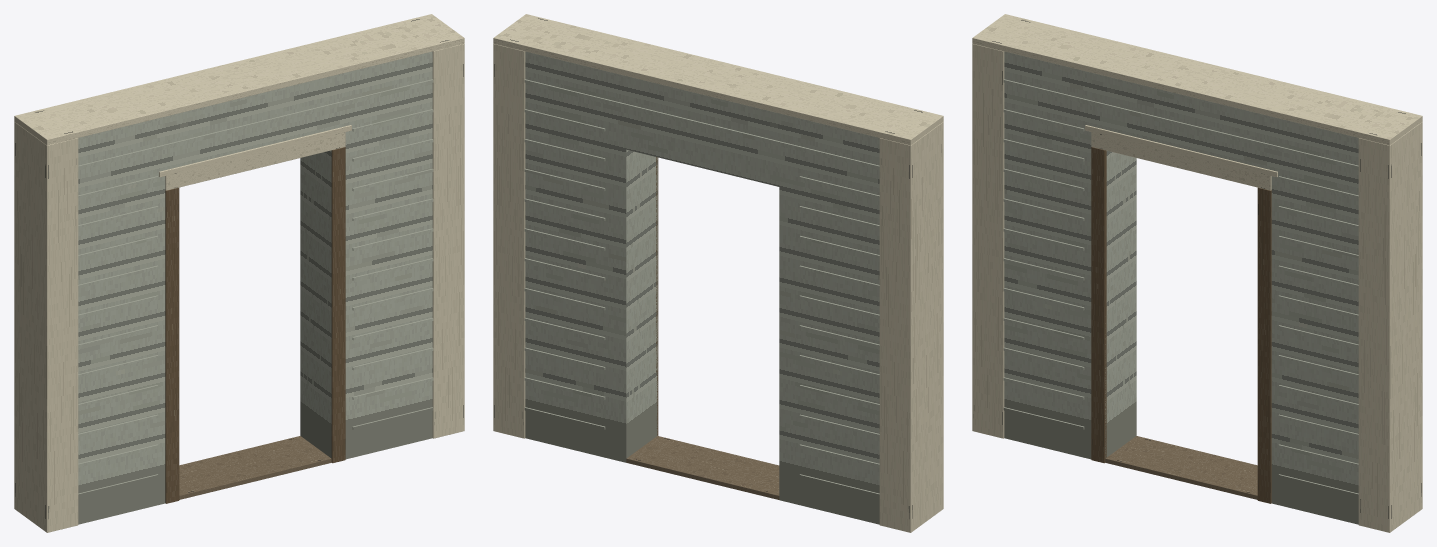
Rendered from house_wall_doorway.glb.
3 renders of one model, left to right at view 1: azimuth 30°, elevation 25°; view 2: azimuth 150°, elevation 25°; view 3: azimuth 330°, elevation 25°, orthographic.
Visible parts, largest first — view 1: house_wall_doorway; view 2: house_wall_doorway; view 3: house_wall_doorway.
Boxes of the visible parts, x1,y1,x2,y2 form: house_wall_doorway: (14, 14, 464, 532); house_wall_doorway: (493, 14, 943, 532); house_wall_doorway: (972, 14, 1422, 532).
Size of the model in its own units: 3 by 2.7 by 0.408.
Materials: 4 (4 with a texture image).
